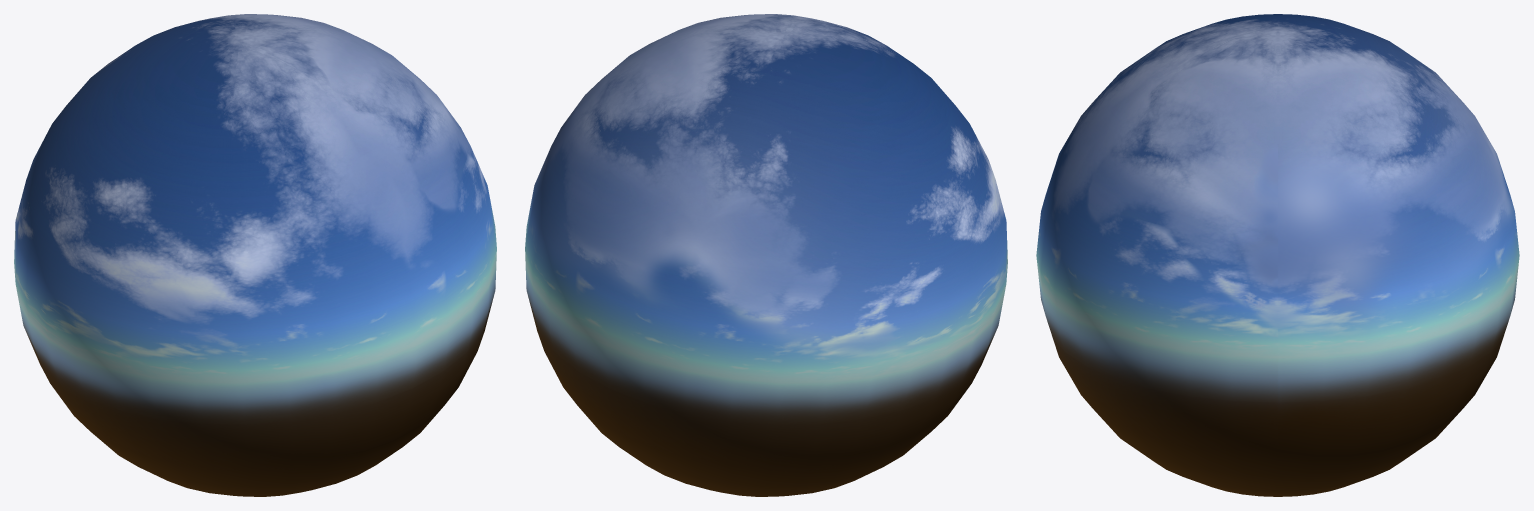
The model's file is hdSky.glb.
The picture shows the model from 3 angles, left to right: view 1: azimuth 30°, elevation 25°; view 2: azimuth 150°, elevation 25°; view 3: azimuth 270°, elevation 25°; orthographic projection.
Visible parts, largest first — view 1: Sphere; view 2: Sphere; view 3: Sphere.
Boxes of the visible parts, x1,y1,x2,y2 form: Sphere: [14, 14, 496, 496]; Sphere: [525, 14, 1007, 496]; Sphere: [1036, 14, 1519, 496].
Bounding box in the file's own units: 232 × 232 × 233.
Materials: 1 (1 with a texture image).
